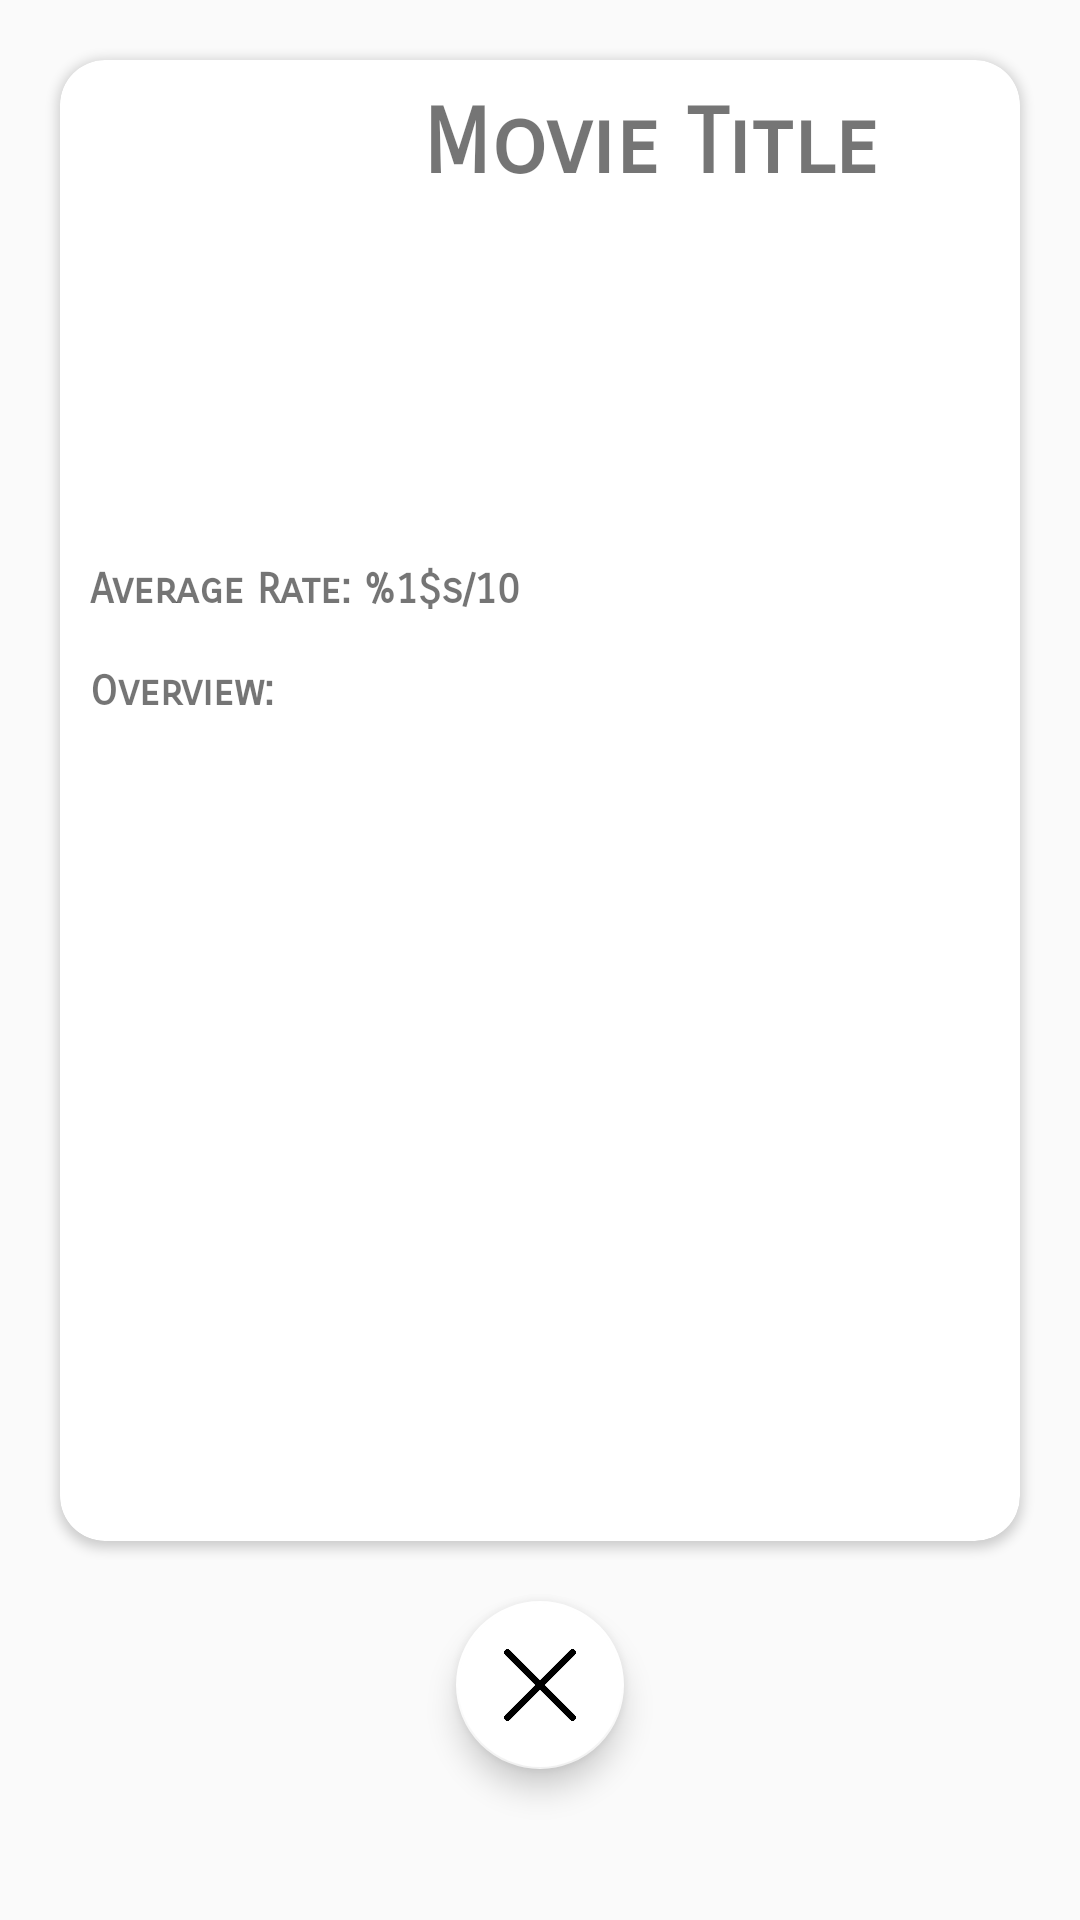

Named icons in this screenshot (1080×1920) and their bounding boxes, (x1, y1, x2, y2):
cancel: (456, 1649, 576, 1721)
